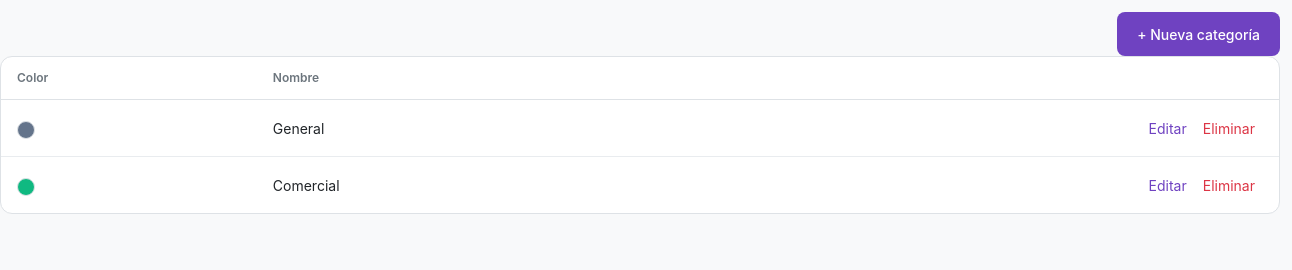
Test: NewsCategoriesBody — CRUD (NEWS-FE-CAT-1) › shows an in-use message on 409 NEWS_CATEGORY_IN_USE and keeps the category listed
This screenshot has width=1292, height=270.
Click the button "Eliminar" in the row of "Comercial" at {"x": 1229, "y": 185}, box [1195,169,1263,201]
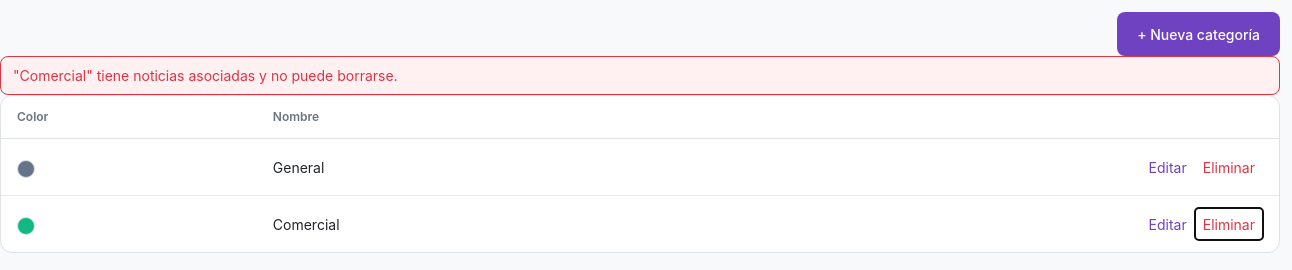
Expected: the text "Comercial" is shown, [257,196,655,252]
Now the text "\"Comercial\" tiene noticias asociadas y no puede borrarse." is shown, box [0,56,1280,95]
